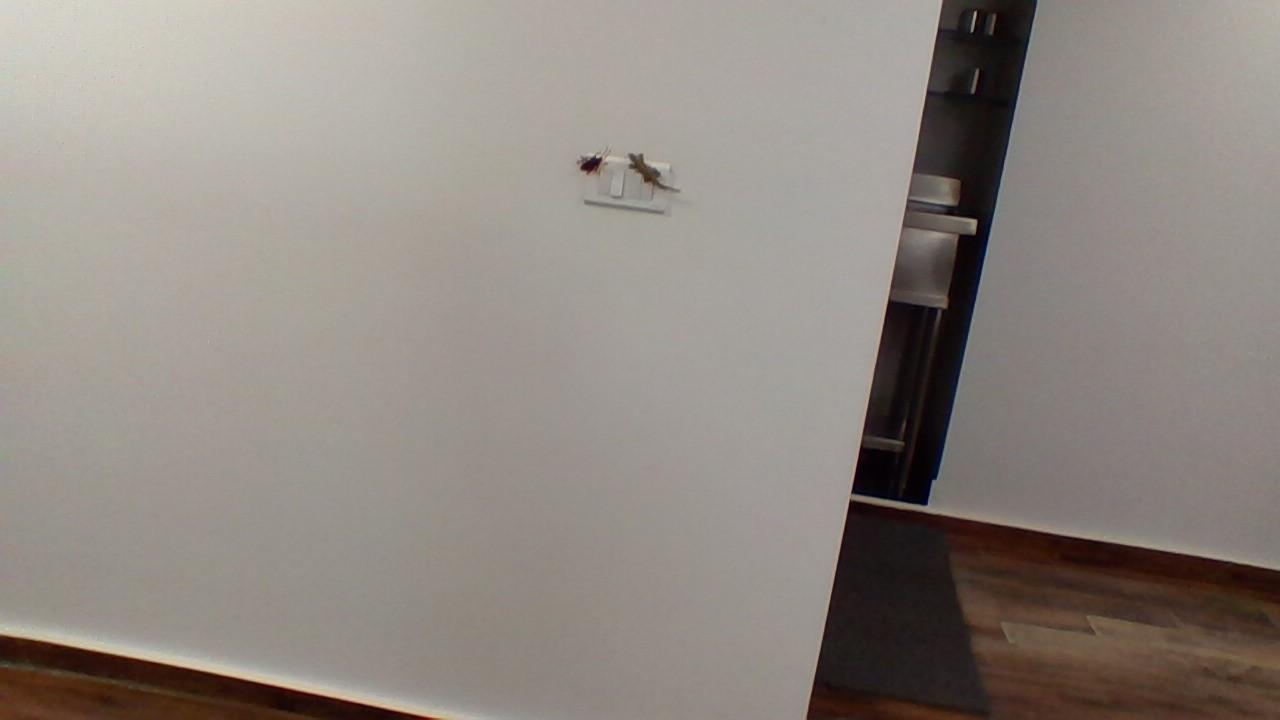cockroach: (574, 140, 614, 180)
lizard: (625, 144, 683, 198)
